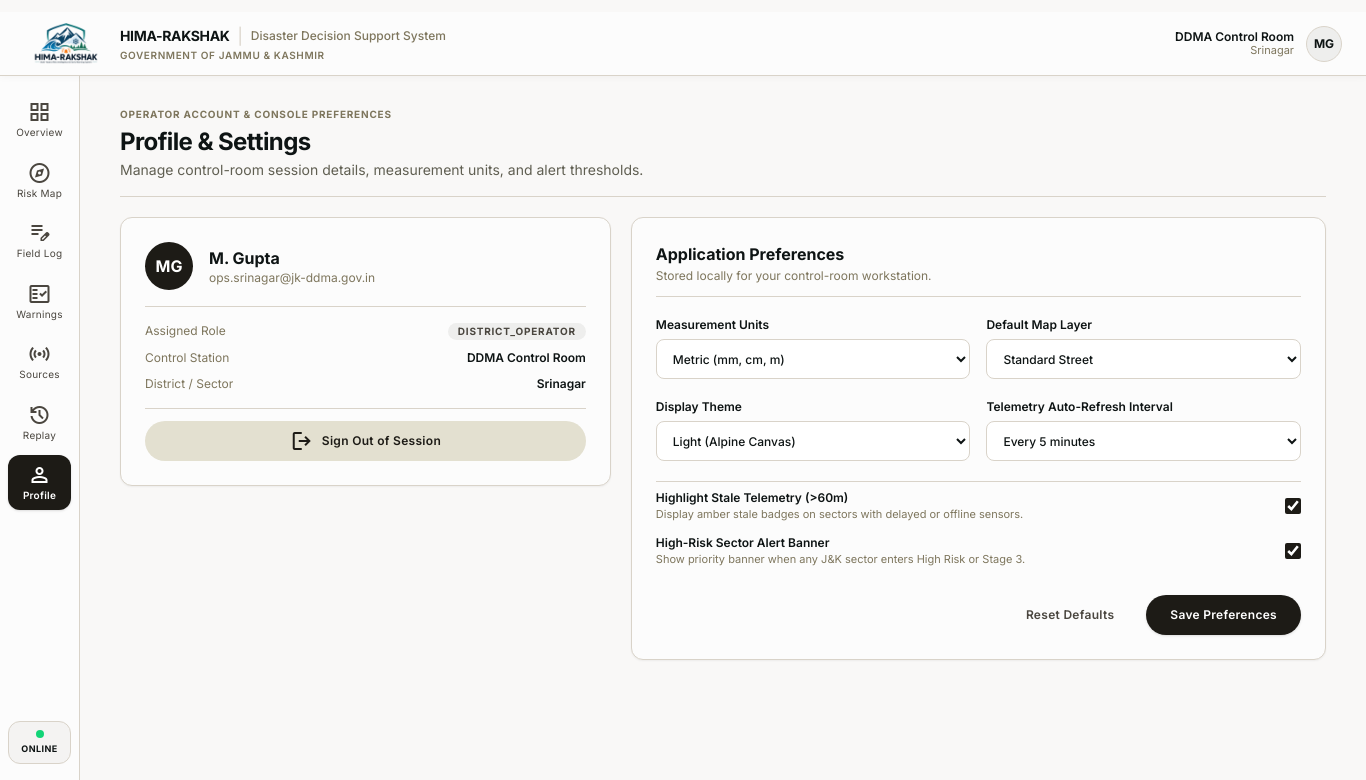
Test: ProfilePage › resets defaults and signs out from profile page
Select "Imperial (in, ft)" in the dropdown labelled "Measurement Units" at (813, 359), box [656,339,970,379]
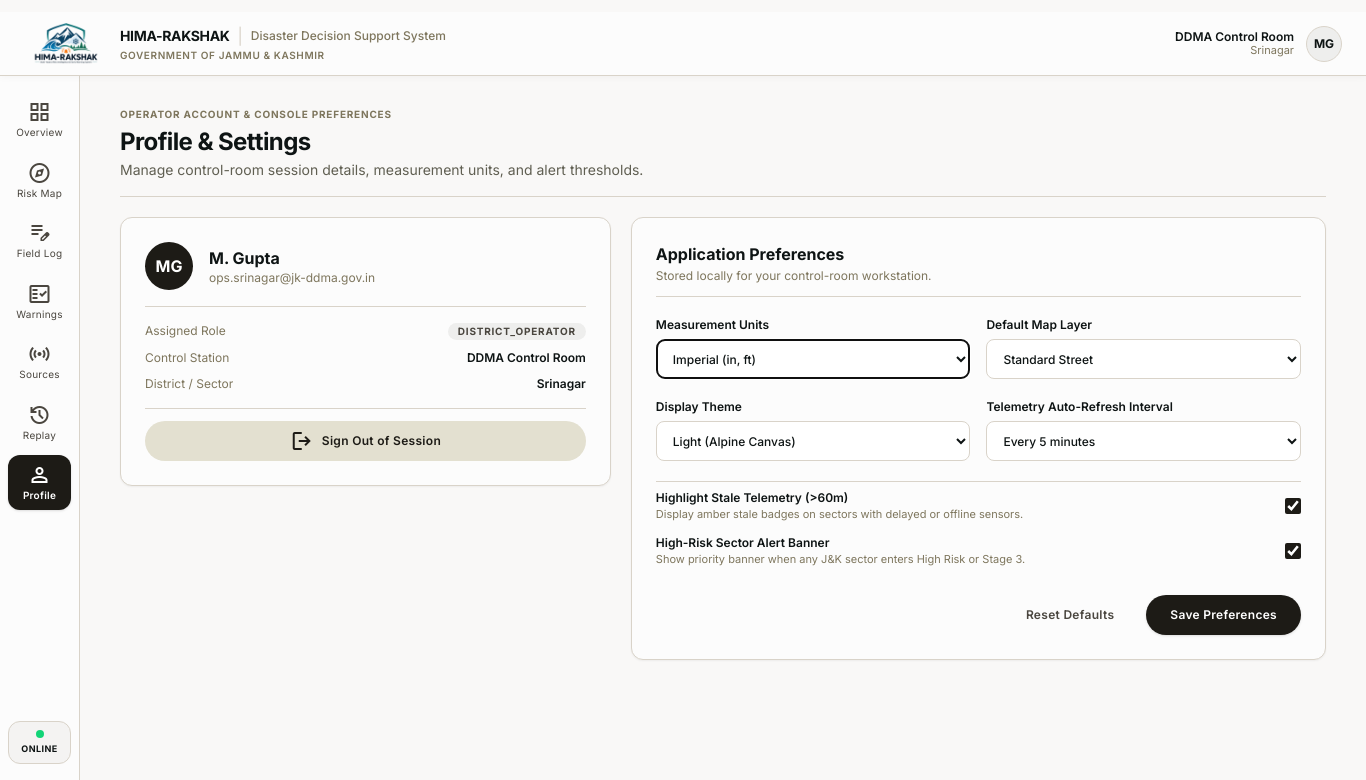
Click the button "Reset Defaults" at (1070, 615), box [1002,595,1138,635]
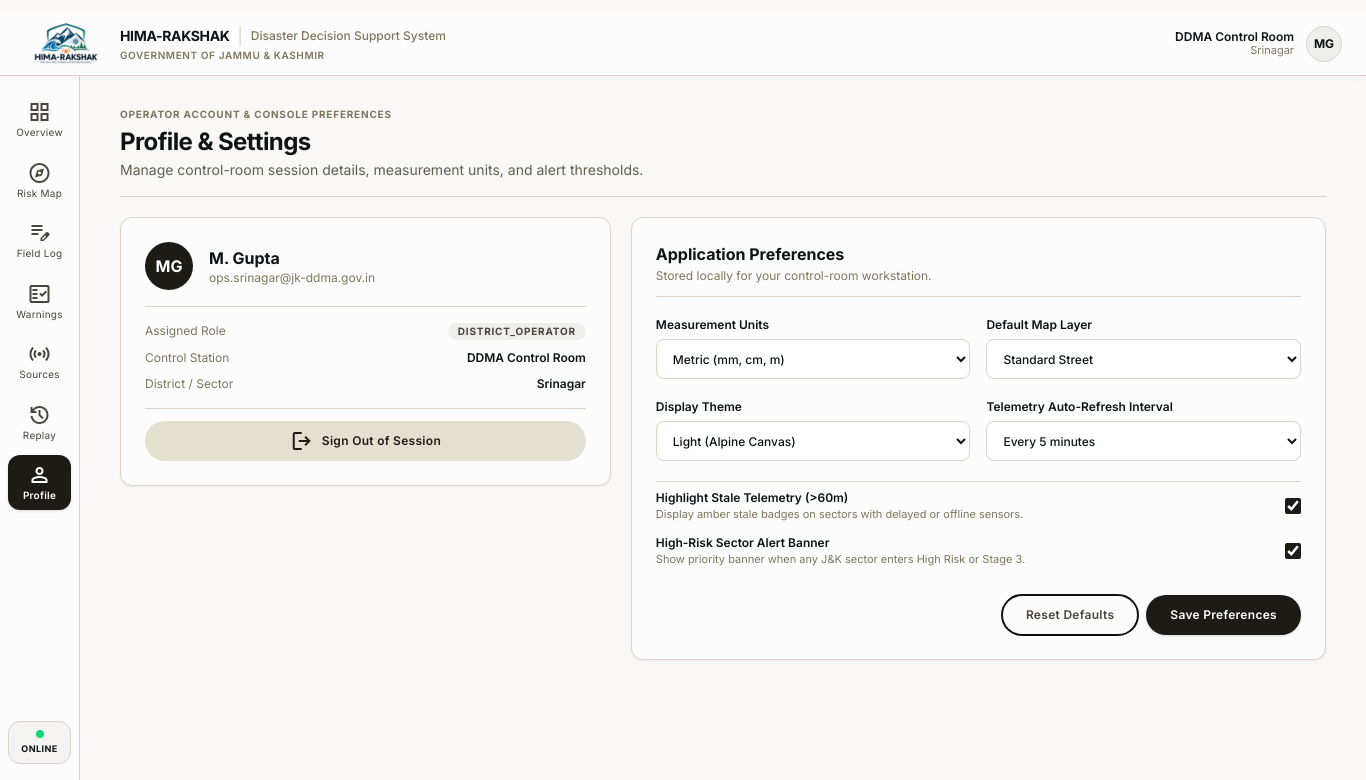
Click the button "Sign Out of Session" at (365, 441), box [145,421,586,461]
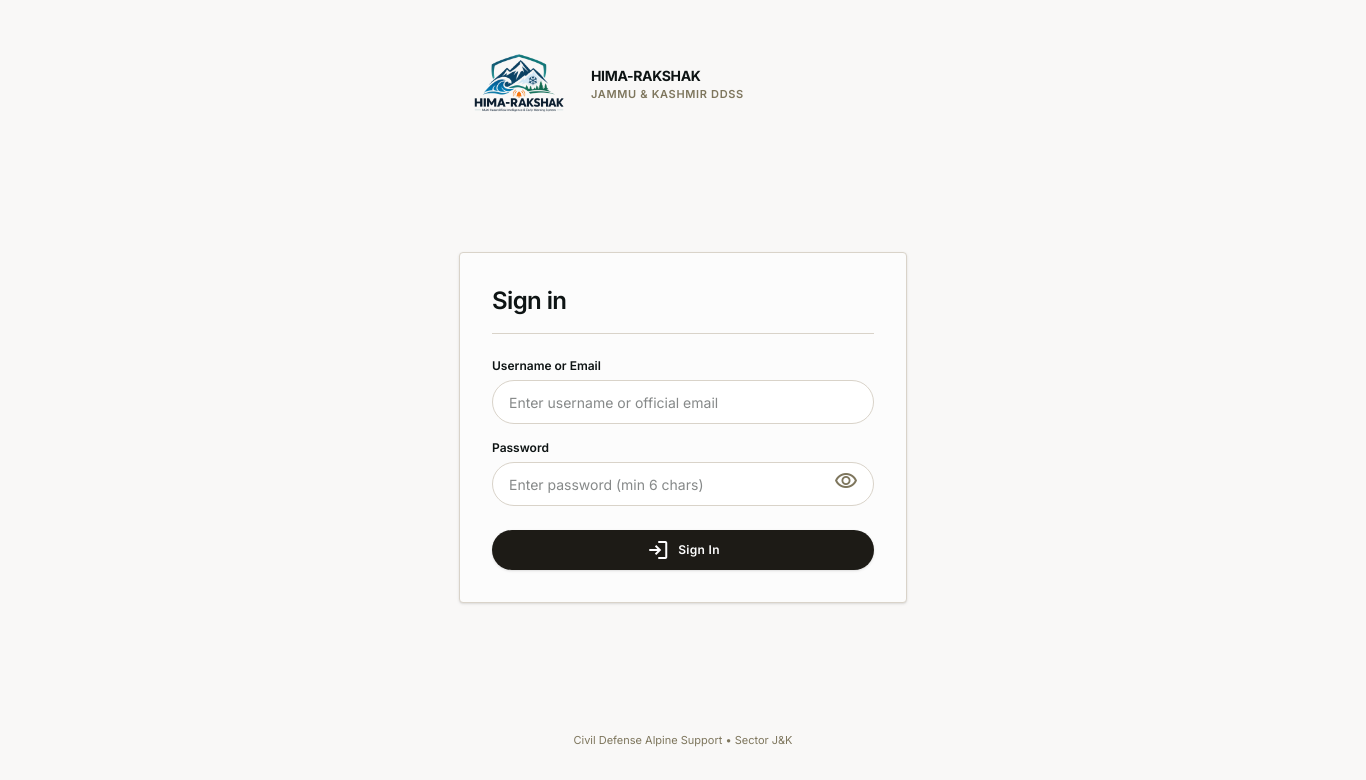
Now the heading "Sign in" is shown, box [492,286,566,315]
